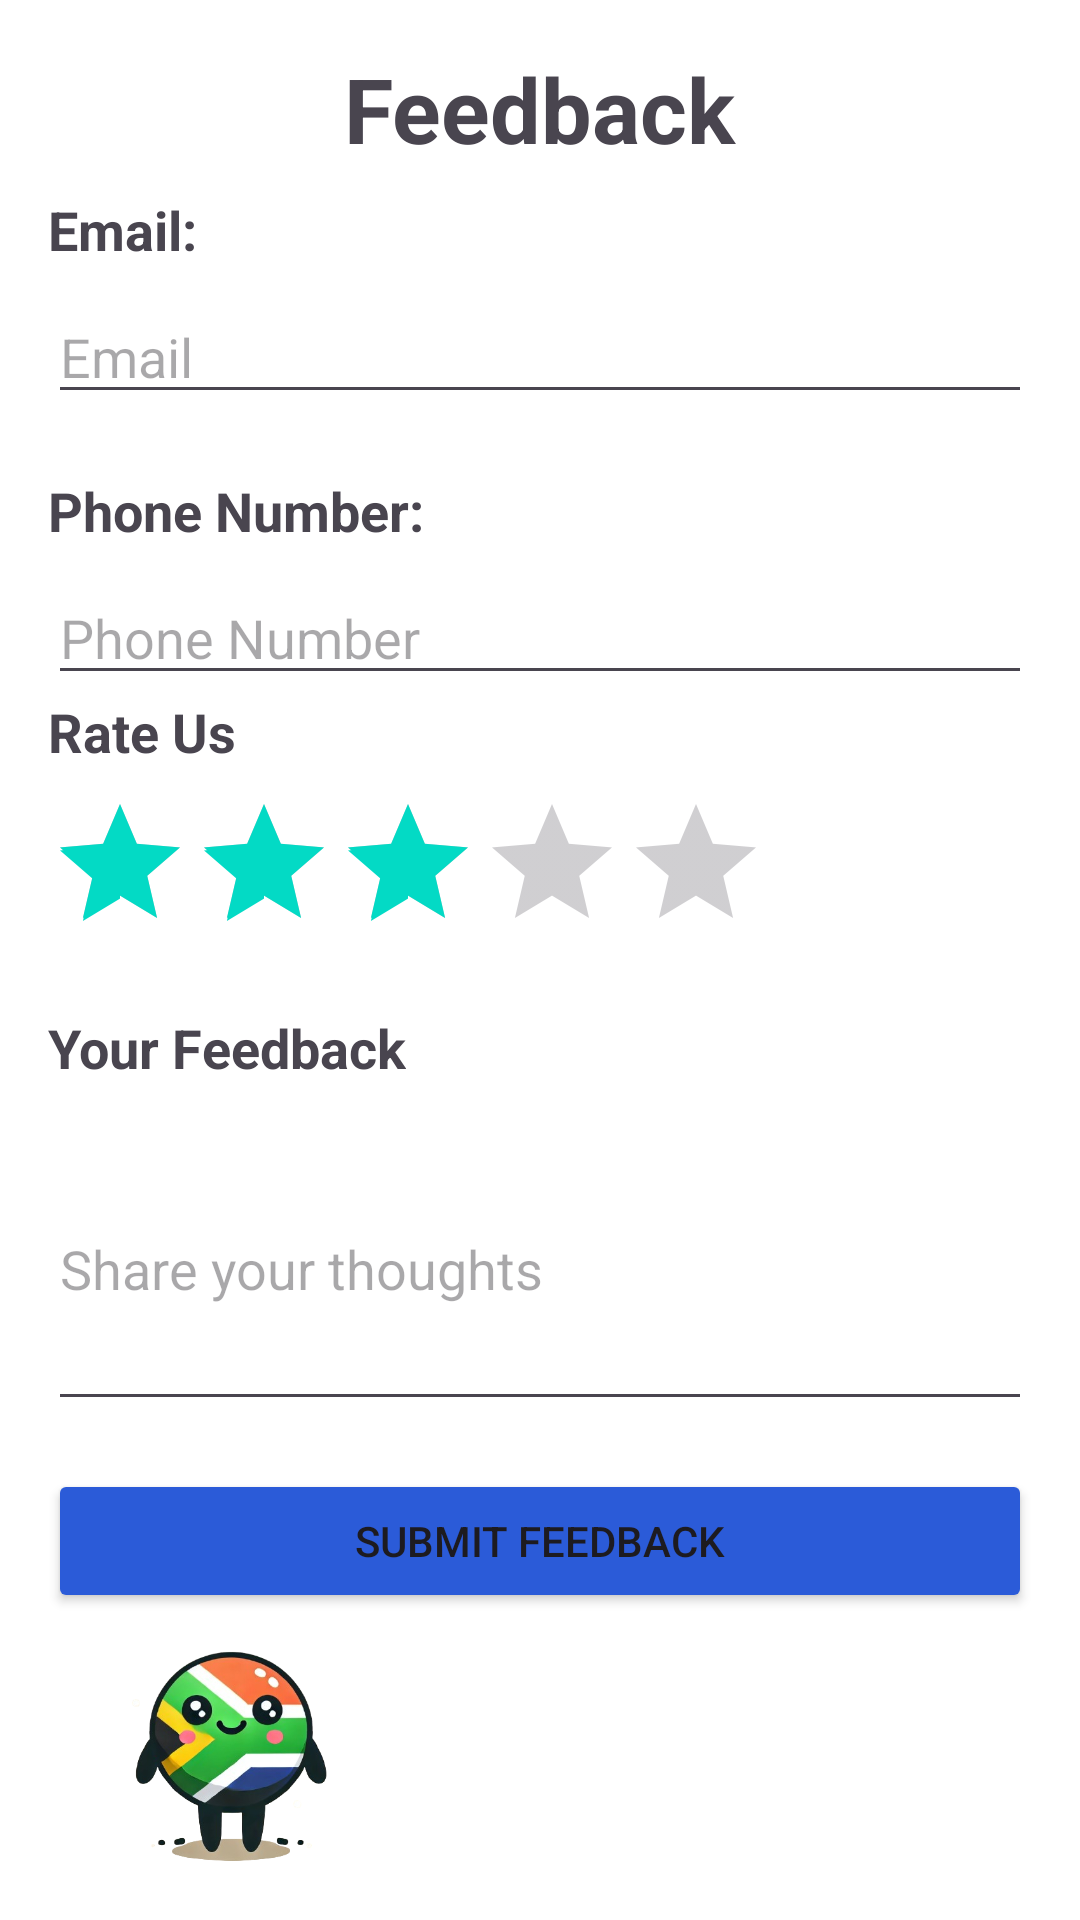

Named icons in this screenshot (1080w x 1920h) and their centers, [x,y]:
mascot: [231,1756]
